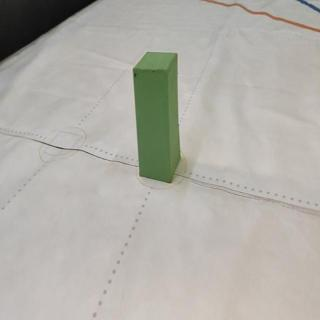greenbox: (133, 50, 181, 180)
